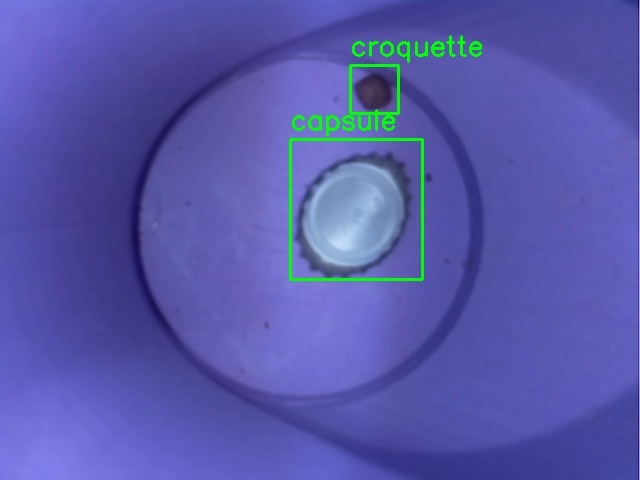capsule: (290, 139, 422, 279)
croquette: (350, 65, 398, 113)
